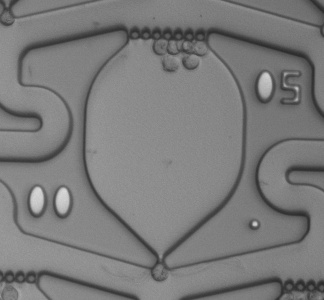AptNum: (249, 63, 309, 111)
Marker: (244, 214, 266, 235)
StNum: (19, 178, 83, 229)
Trap: (133, 257, 190, 300)
